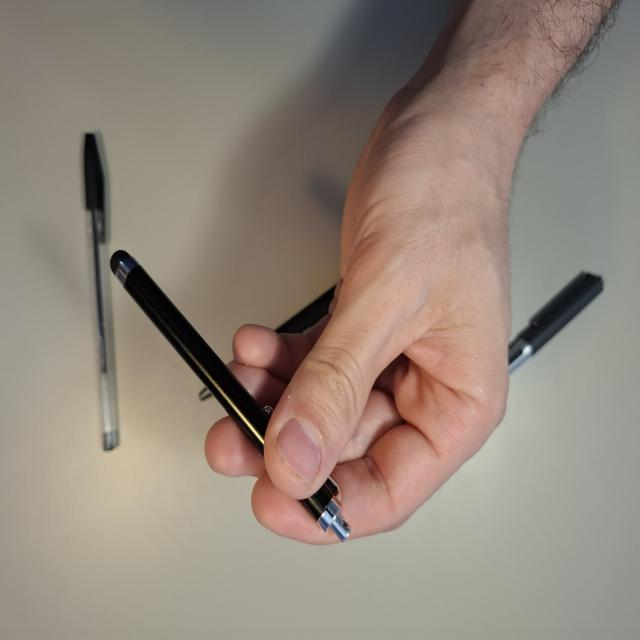glove_off: (201, 52, 523, 548)
